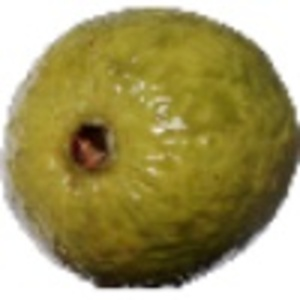goiaba: (2, 6, 297, 289)
